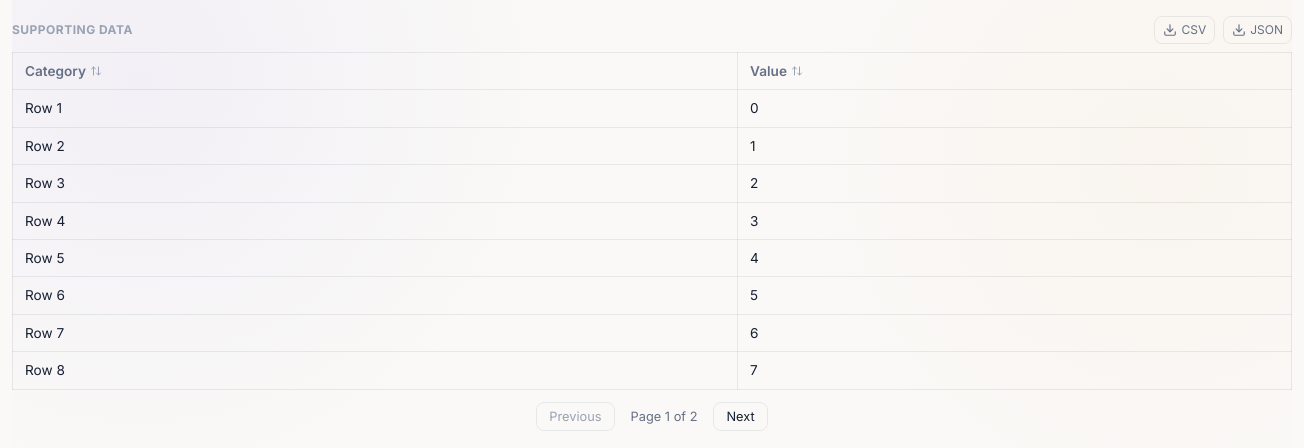
Test: SupportingData › paginates at 8 rows per page
Expected: the text "Page 1 of 2" is shown, [630, 406, 697, 426]
Expected: the button "Previous" is disabled, [536, 402, 615, 431]
What coordinates should you click on to do the following:
click the button "Next"
I would click on:
 (741, 416)
Its box is [714, 402, 768, 431].
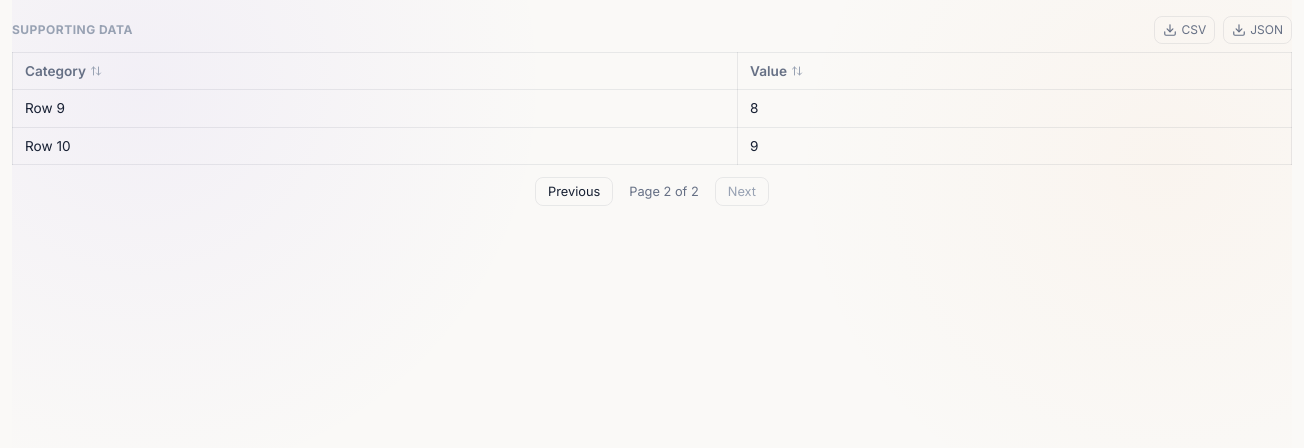
Now the text "Page 2 of 2" is shown, box [629, 182, 699, 201]
Now the number of rows is 3, box [12, 52, 1292, 90]; [12, 90, 1292, 127]; [12, 127, 1292, 165]
Now the button "Next" is disabled, box [715, 177, 769, 206]
